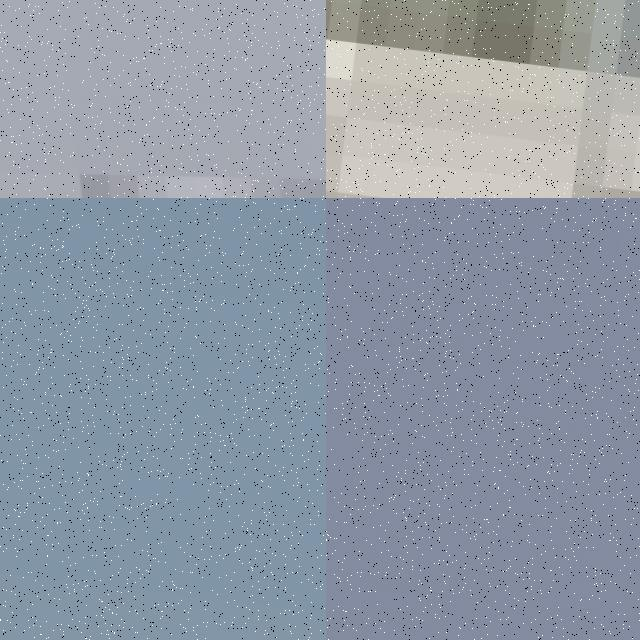drone: (0, 0, 326, 198)
